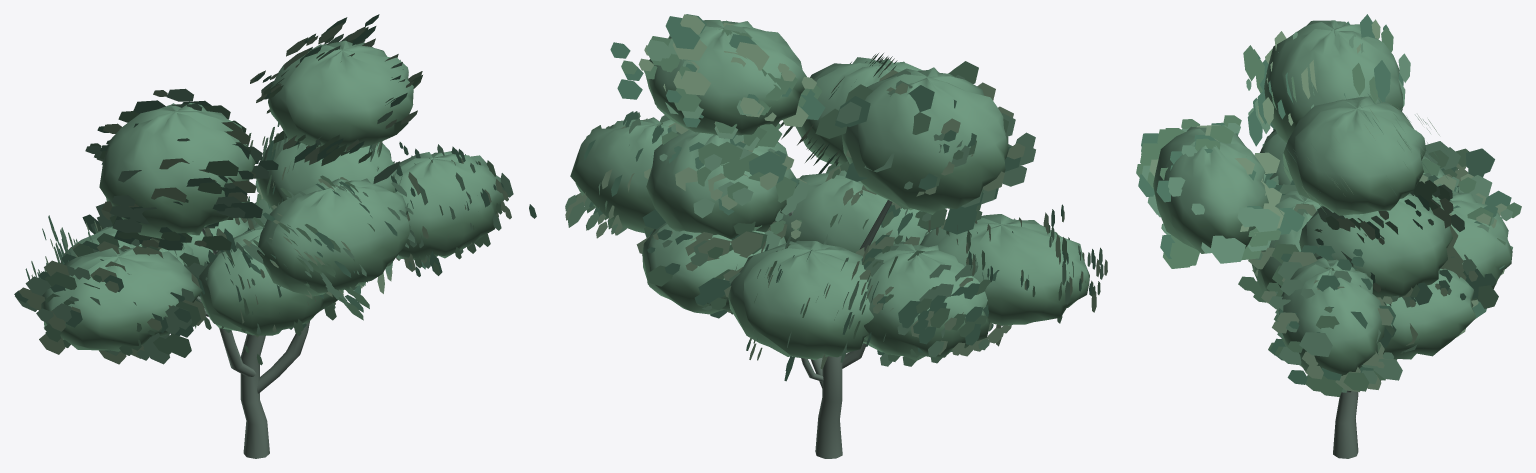
The model's file is anime_tree_shelter.glb.
The picture shows the model from 3 angles, left to right: view 1: azimuth 30°, elevation 25°; view 2: azimuth 150°, elevation 25°; view 3: azimuth 270°, elevation 25°; orthographic projection. The views are drawn at different scales.
Parts seen in each view (by area): view 1: Foliage_2, Canopy_0, Canopy_1, Canopy_2, Foliage_0, Canopy_5, Canopy_4, Canopy_9, Foliage_1, Canopy_3, Trunk, Canopy_6 (+1 smaller); view 2: Foliage_2, Foliage_0, Canopy_0, Canopy_6, Canopy_5, Canopy_2, Foliage_1, Canopy_8, Canopy_3, Canopy_4, Canopy_9, Canopy_7 (+2 smaller); view 3: Foliage_1, Canopy_2, Foliage_0, Canopy_1, Canopy_0, Canopy_3, Canopy_4, Canopy_7, Canopy_6, Foliage_2, Trunk, Canopy_9 (+1 smaller).
Part boxes in pixels (left/top/right/bottom): Foliage_2: left=14, top=14, right=422, bottom=364; Canopy_0: left=99, top=103, right=255, bottom=238; Canopy_1: left=257, top=178, right=410, bottom=296; Canopy_2: left=268, top=40, right=413, bottom=151; Foliage_0: left=82, top=88, right=408, bottom=365; Canopy_5: left=41, top=247, right=202, bottom=351; Canopy_4: left=394, top=151, right=504, bottom=261; Canopy_9: left=199, top=223, right=337, bottom=335; Foliage_1: left=241, top=142, right=536, bottom=320; Canopy_3: left=256, top=138, right=396, bottom=210; Trunk: left=197, top=228, right=309, bottom=458; Canopy_6: left=186, top=217, right=249, bottom=265; Foliage_2: left=610, top=14, right=1107, bottom=366; Foliage_0: left=644, top=61, right=1035, bottom=381; Canopy_0: left=842, top=67, right=1008, bottom=214; Canopy_6: left=728, top=240, right=873, bottom=360; Canopy_5: left=920, top=214, right=1089, bottom=325; Canopy_2: left=645, top=20, right=806, bottom=138; Foliage_1: left=565, top=53, right=897, bottom=318; Canopy_8: left=863, top=243, right=990, bottom=360; Canopy_3: left=646, top=130, right=799, bottom=239; Canopy_4: left=570, top=117, right=675, bottom=233; Canopy_9: left=774, top=170, right=931, bottom=253; Canopy_7: left=642, top=222, right=785, bottom=314; Foliage_1: left=1136, top=115, right=1498, bottom=396; Canopy_2: left=1283, top=96, right=1426, bottom=215; Foliage_0: left=1238, top=14, right=1521, bottom=336; Canopy_1: left=1153, top=126, right=1268, bottom=253; Canopy_0: left=1264, top=20, right=1403, bottom=142; Canopy_3: left=1299, top=193, right=1452, bottom=299; Canopy_4: left=1278, top=257, right=1384, bottom=375; Canopy_7: left=1383, top=268, right=1475, bottom=359; Canopy_6: left=1432, top=191, right=1512, bottom=300; Foliage_2: left=1262, top=90, right=1494, bottom=224; Trunk: left=1333, top=390, right=1358, bottom=458; Canopy_9: left=1251, top=191, right=1321, bottom=293.
Size of the model in its own units: 9.02 by 6.79 by 5.89.
